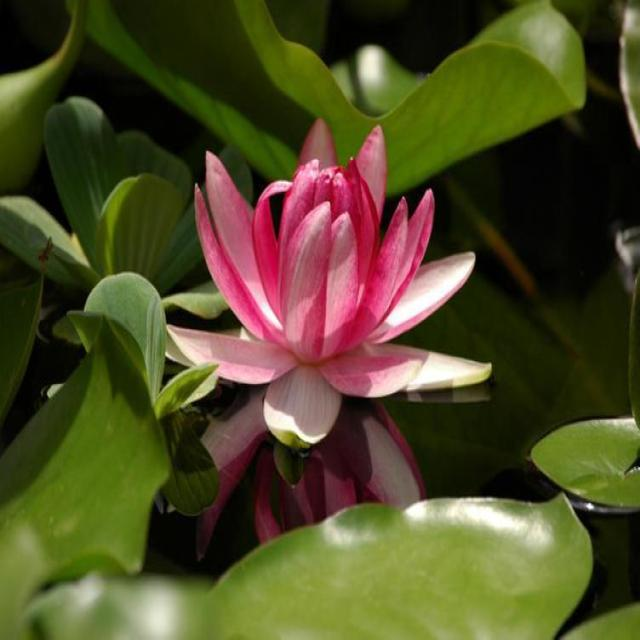water-lily: (177, 110, 509, 503)
